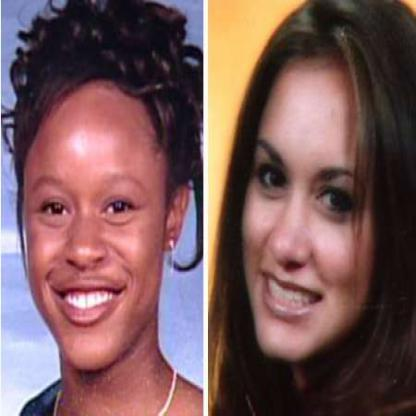face: (235, 18, 403, 383), (17, 53, 168, 374)
